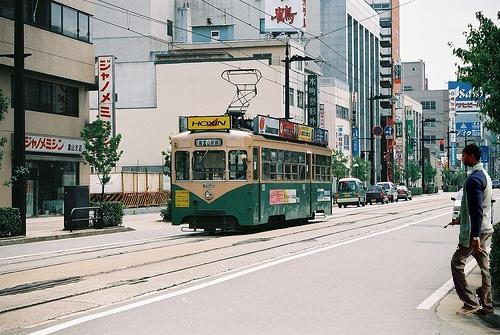tampered: (445, 144, 494, 315)
